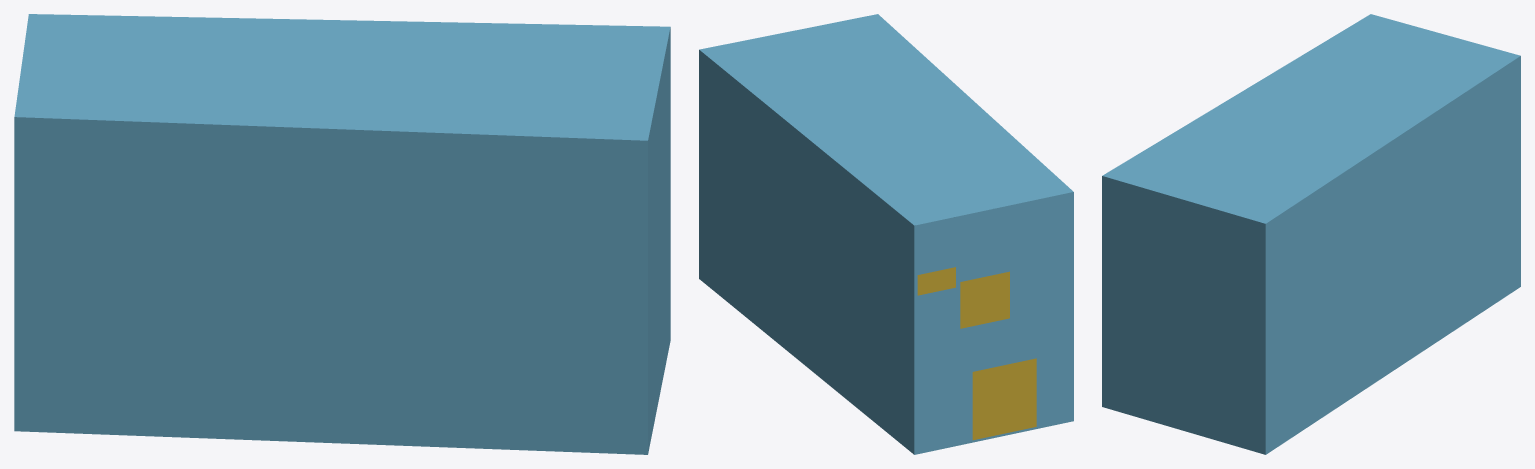
File: bldg_5960242b-13eb-40d2-bf76-d162b902b4cc.obj
3 views of the same model, side by side, from view 1: azimuth 30°, elevation 25°; view 2: azimuth 150°, elevation 25°; view 3: azimuth 270°, elevation 25° (orthographic). The views are drawn at different scales.
Size of the model in its own units: 13.11 by 6.73 by 11.05.
